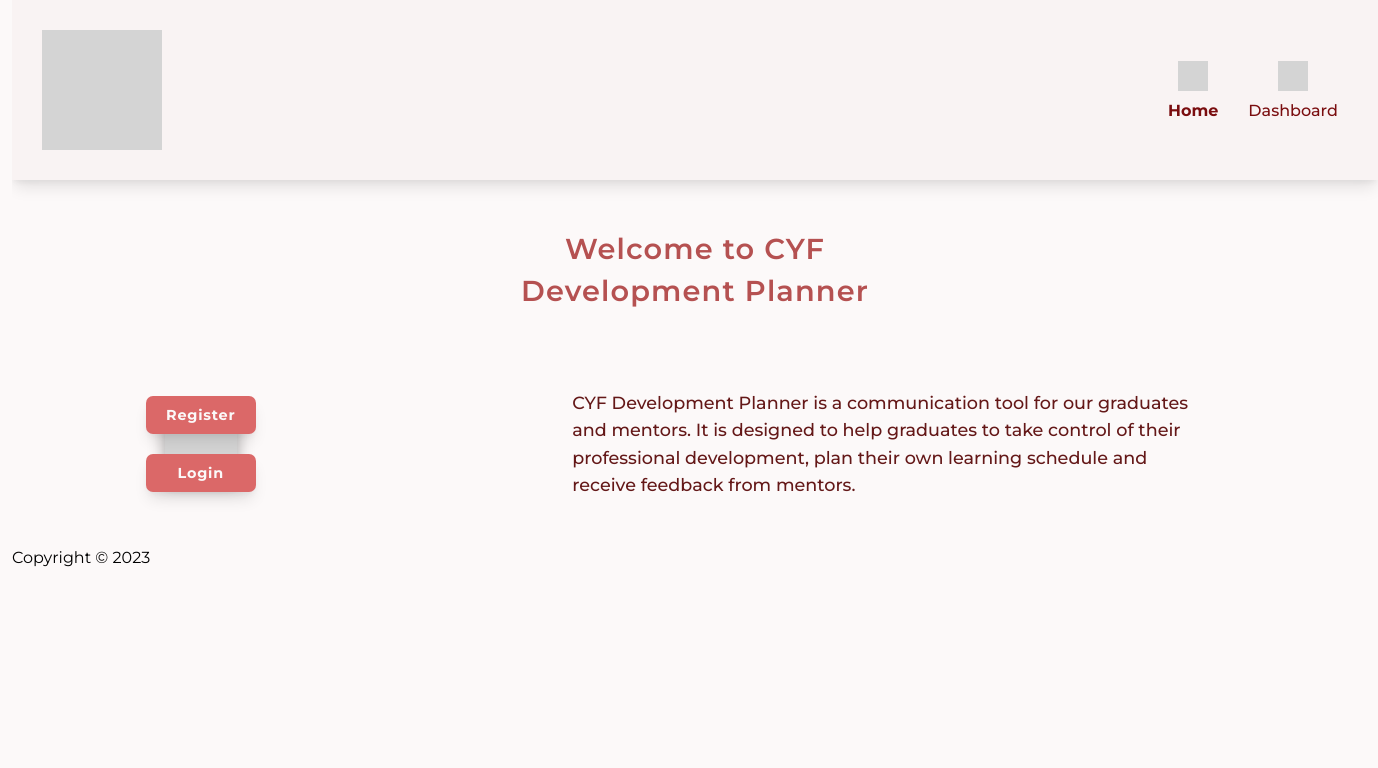
Scenario: App Routes › should show the heading "Login" on login button click
Click the button "Login".
click(201, 473)  # box [146,454,256,492]
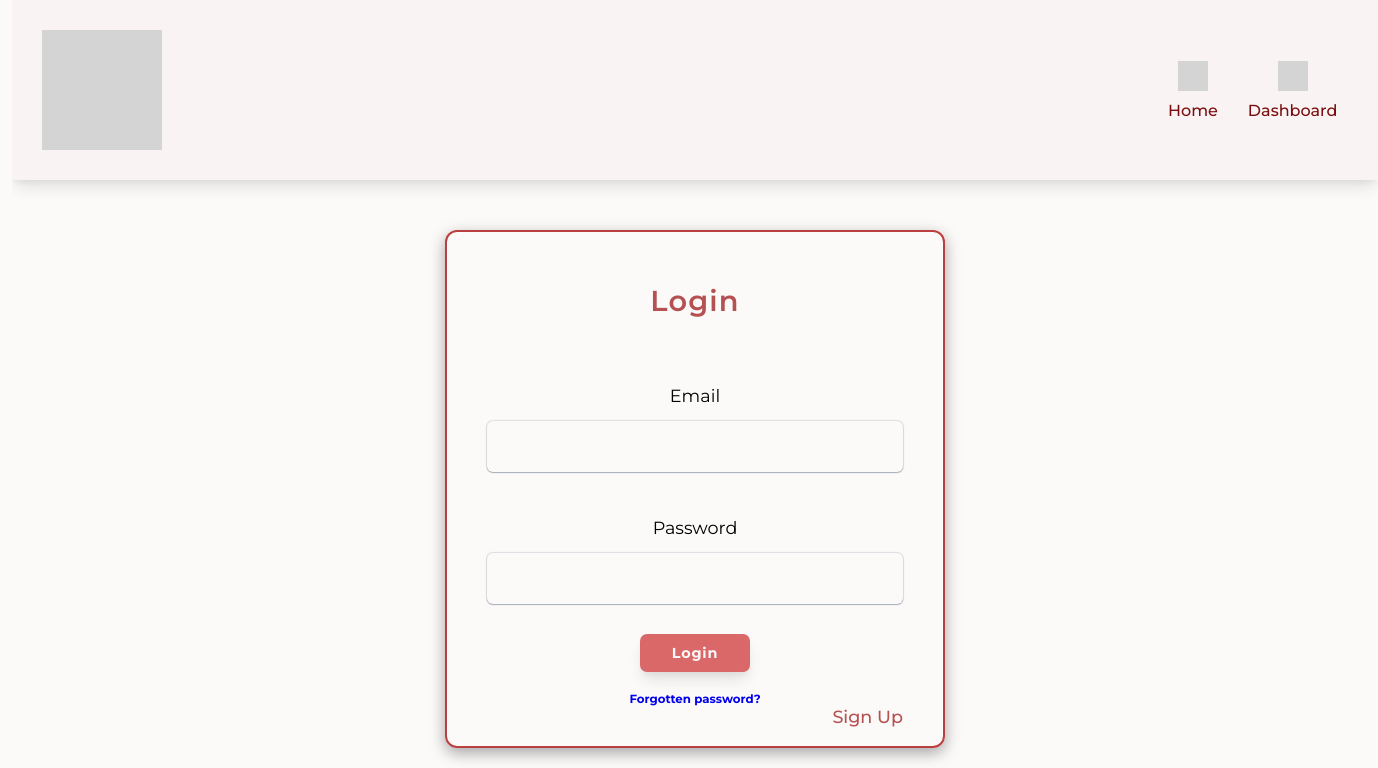
Expected: the heading "Login" is shown, [650,283,740,318]
